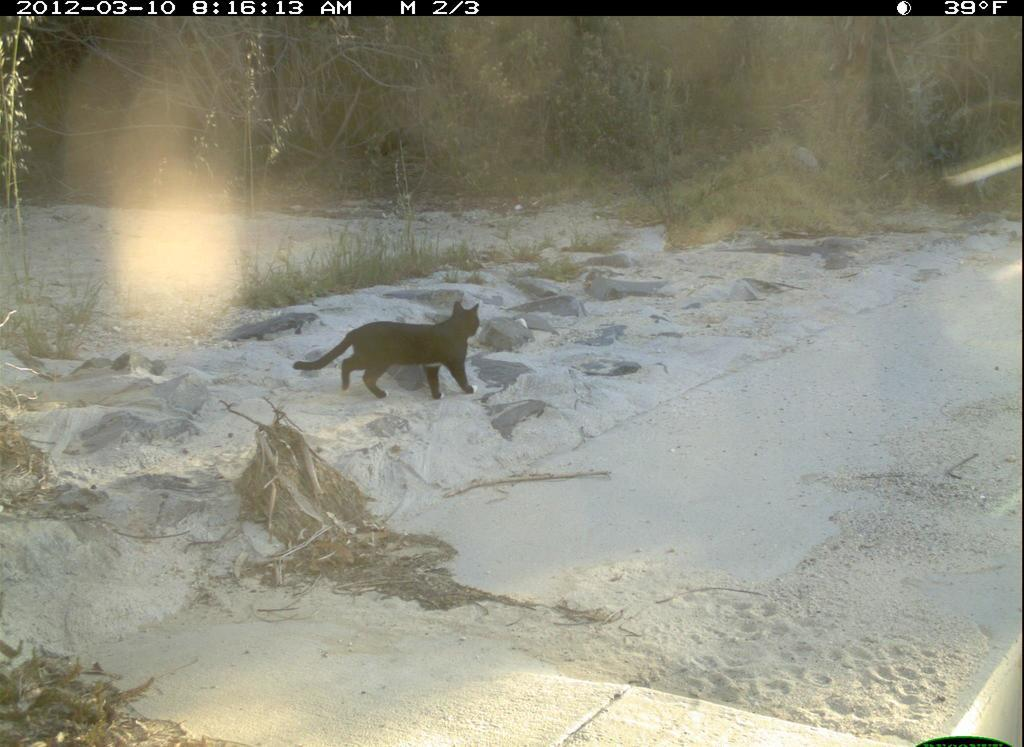cat: (291, 289, 489, 411)
